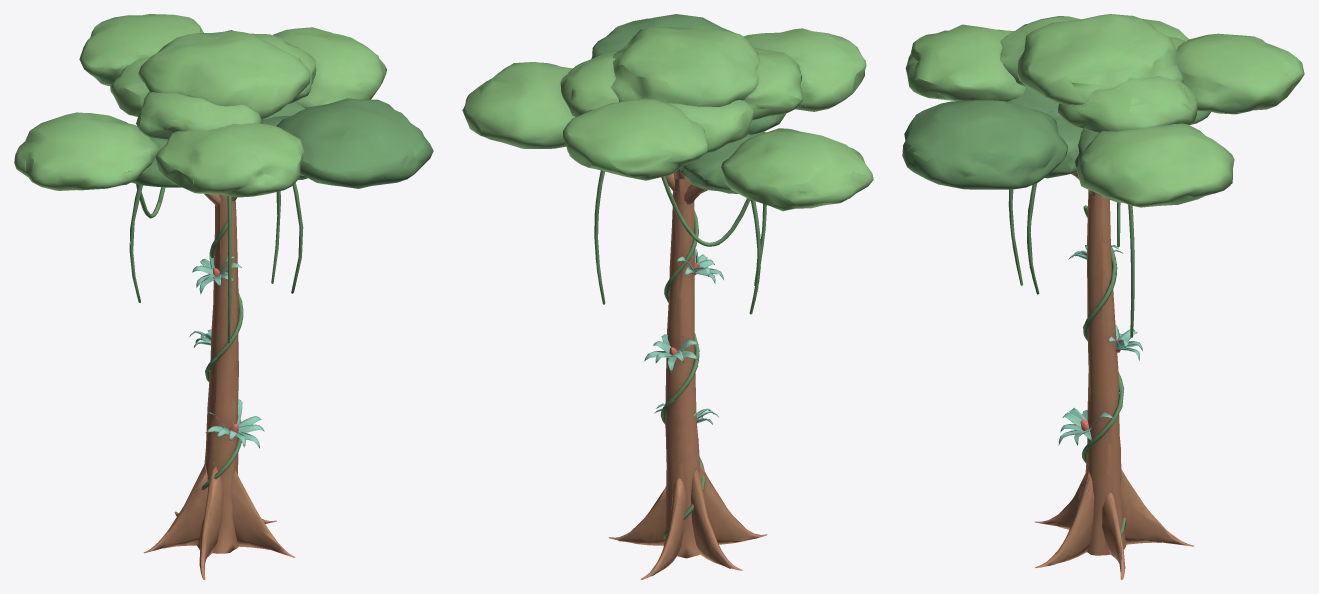
Rendered from arbol_jungla.glb.
3 renders of one model, left to right at view 1: azimuth 30°, elevation 25°; view 2: azimuth 150°, elevation 25°; view 3: azimuth 270°, elevation 25°, orthographic. The views are drawn at different scales.
Parts seen in each view (by area): view 1: jungle-tree_body; view 2: jungle-tree_body; view 3: jungle-tree_body.
Boxes of the visible parts, x1,y1,x2,y2 form: jungle-tree_body: (14,14,433,579); jungle-tree_body: (462,14,873,579); jungle-tree_body: (902,14,1304,579).
Size of the model in its own units: 7.85 by 10.15 by 7.15.
1 material, 1 textured.
